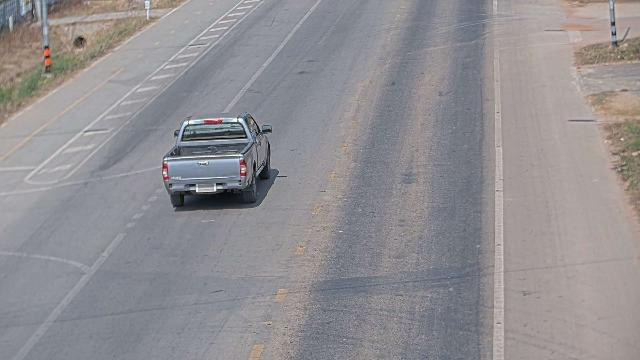pickup-truck: (161, 111, 273, 207)
